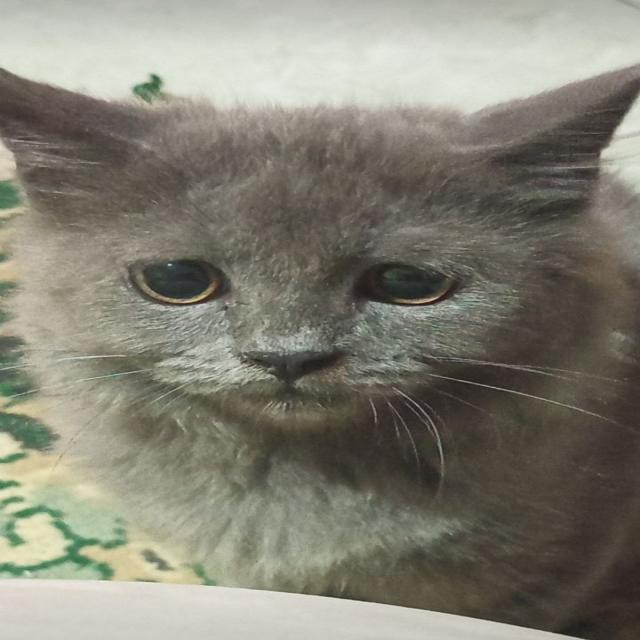da khoe manh: (170, 120, 449, 272), (340, 453, 640, 587)
